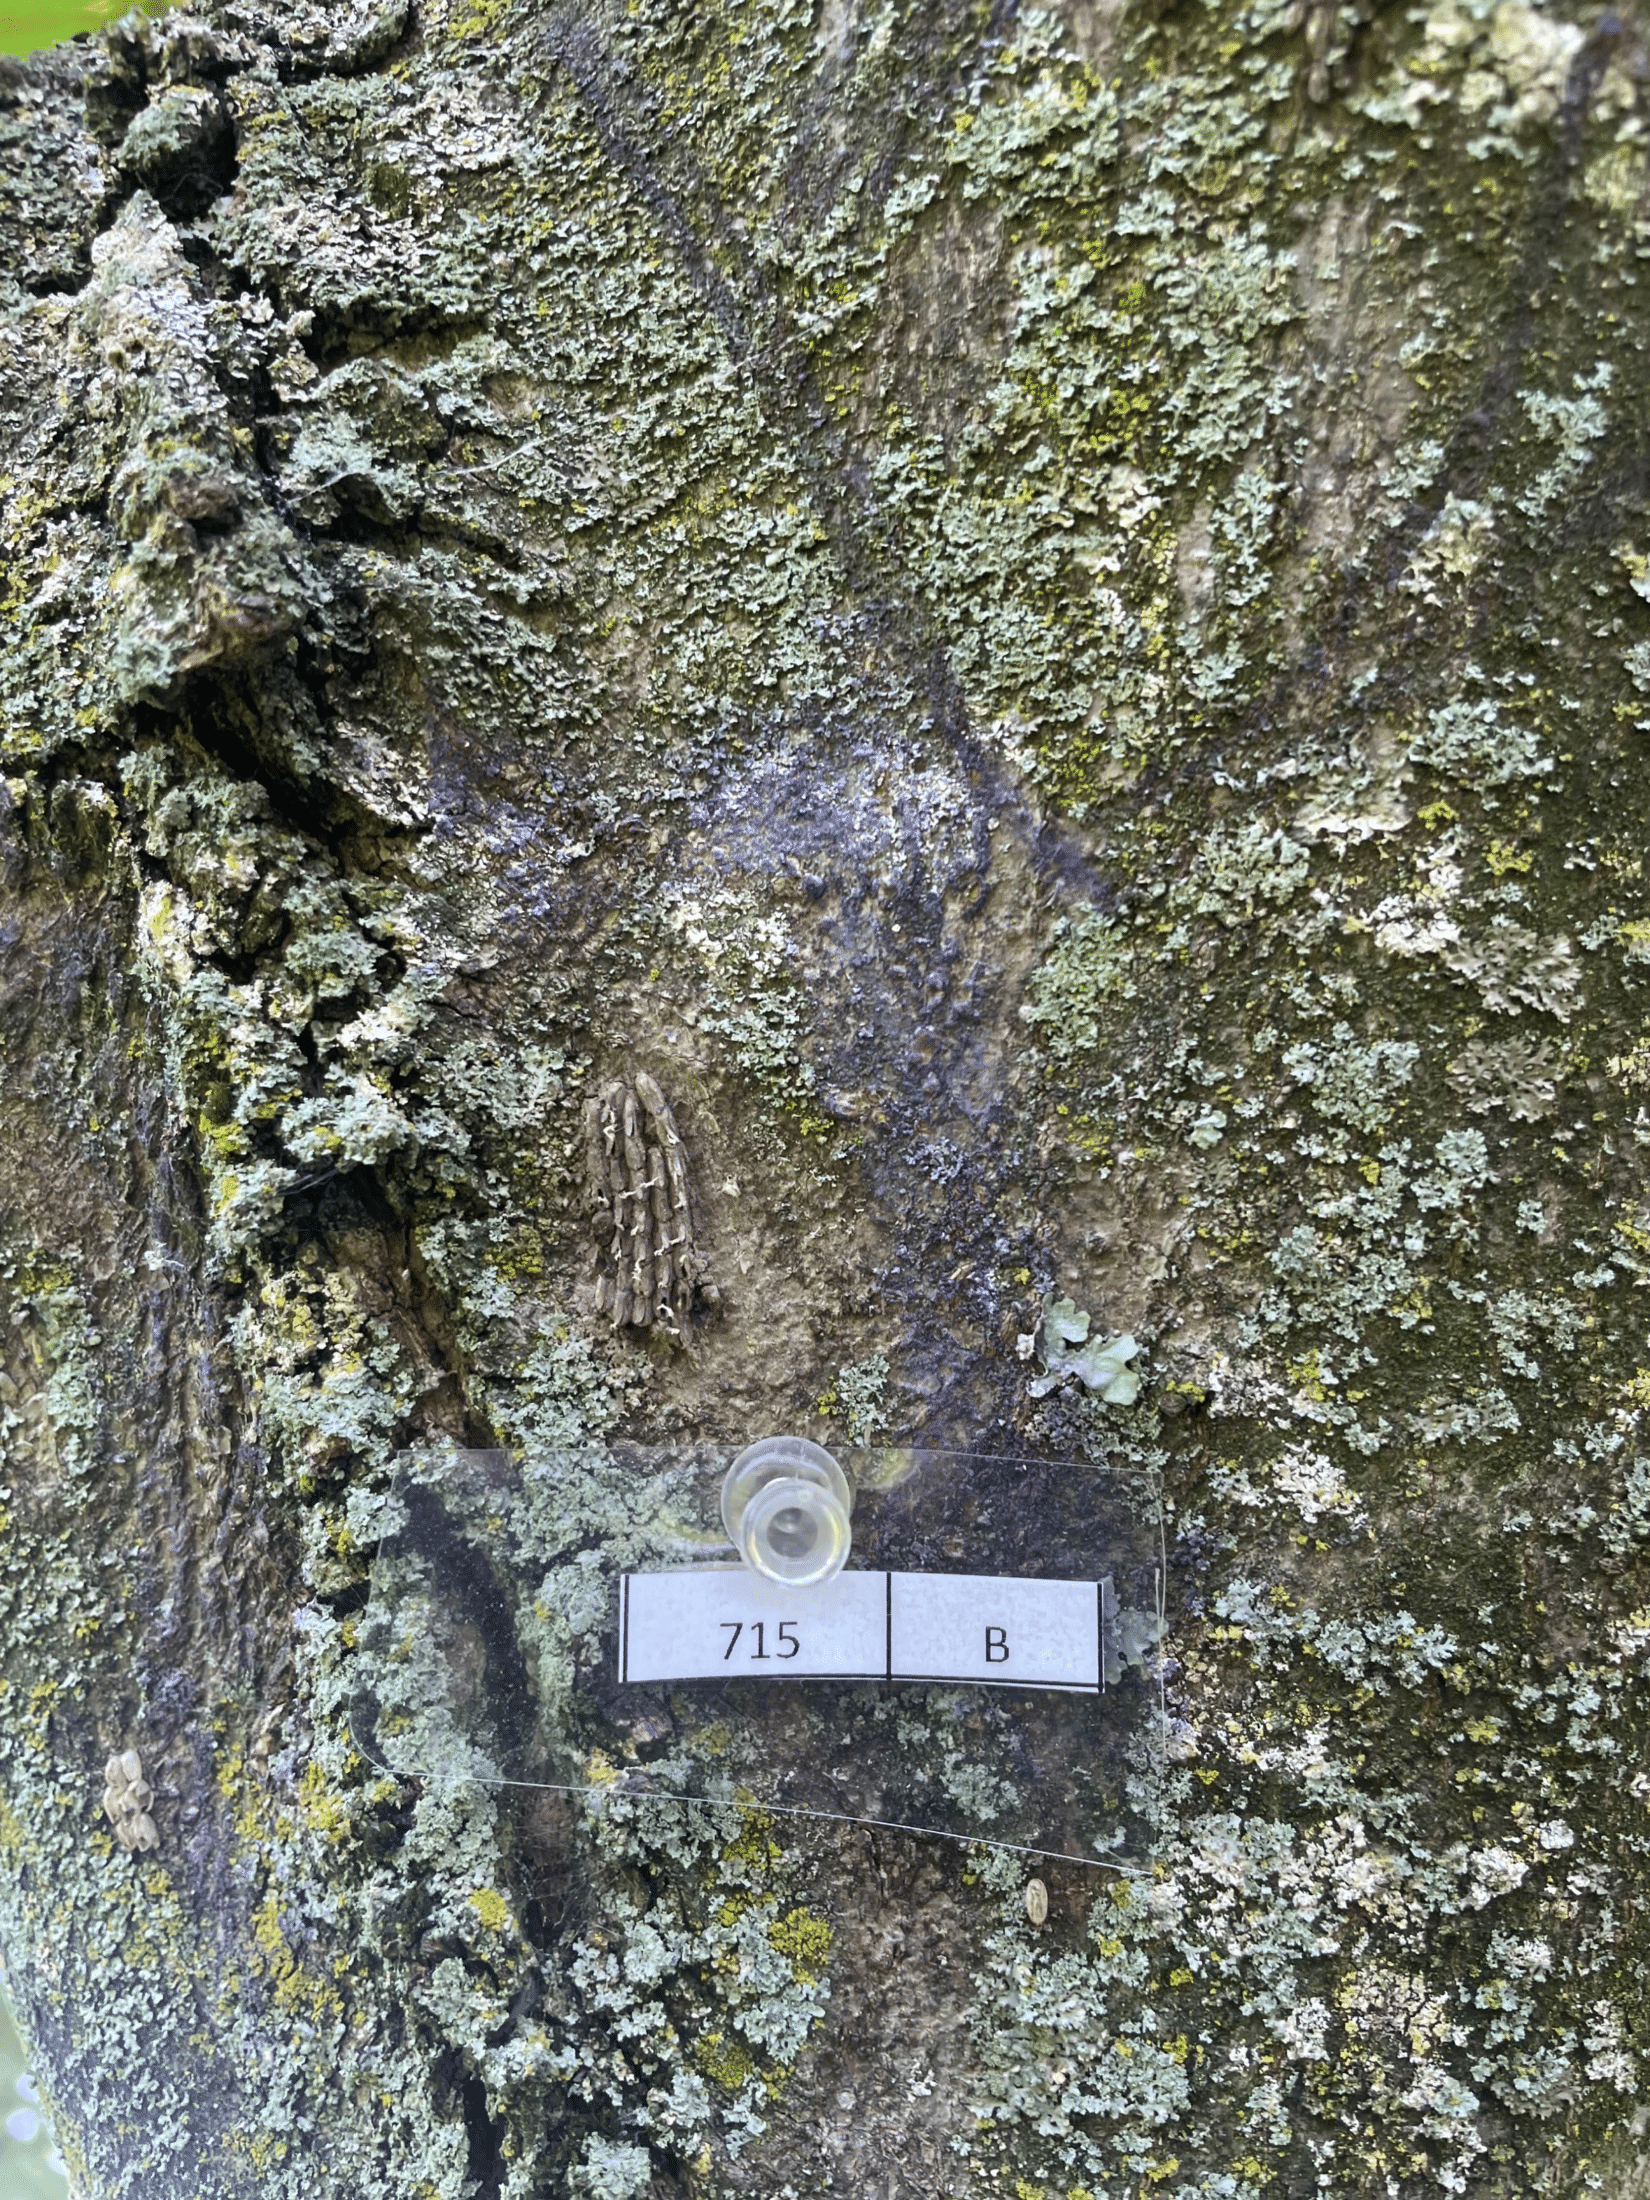egg masses: (565, 1077, 718, 1320)
